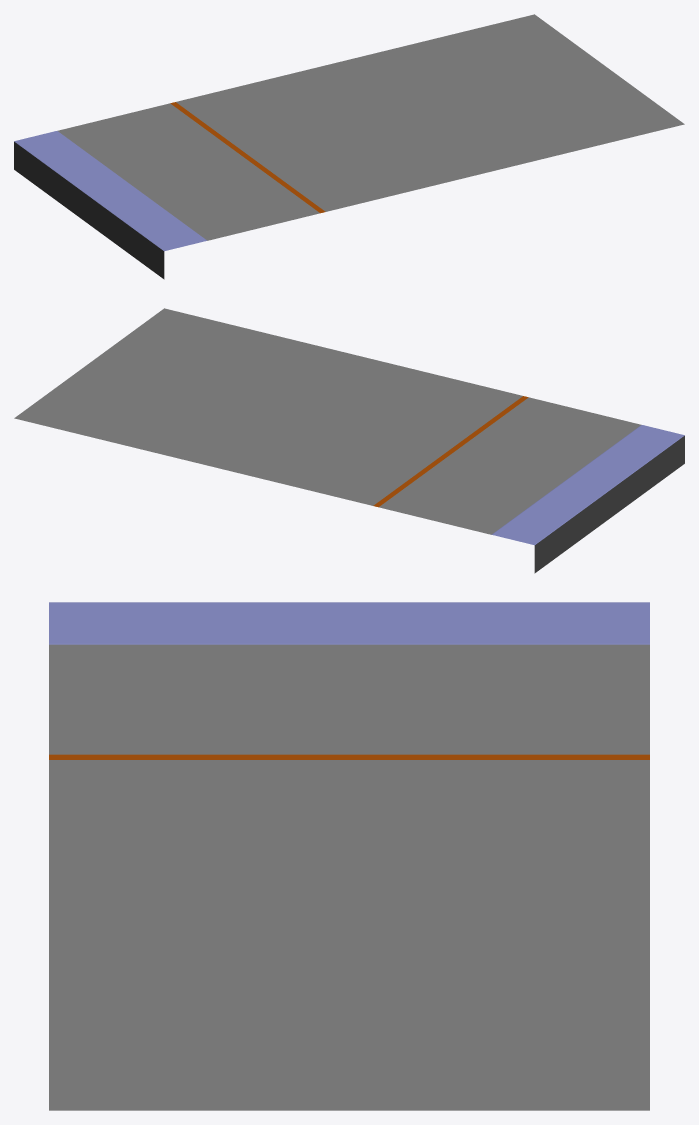
The model's file is W_M_maze_003_4x2_Bottom_L0.fbx.
3 renders of one model, top to bottom at view 1: azimuth 30°, elevation 25°; view 2: azimuth 150°, elevation 25°; view 3: azimuth 270°, elevation 25°, orthographic. The views are drawn at different scales.
Parts seen in each view (by area): view 1: W_M_maze_003_4x2_Bottom_L0; view 2: W_M_maze_003_4x2_Bottom_L0; view 3: W_M_maze_003_4x2_Bottom_L0.
Boxes of the visible parts, x1=… form: W_M_maze_003_4x2_Bottom_L0: x1=14, y1=14, x2=684, y2=279; W_M_maze_003_4x2_Bottom_L0: x1=14, y1=308, x2=684, y2=573; W_M_maze_003_4x2_Bottom_L0: x1=49, y1=602, x2=649, y2=1110.
Bounding box in the file's own units: 4 × 0.208 × 2.
